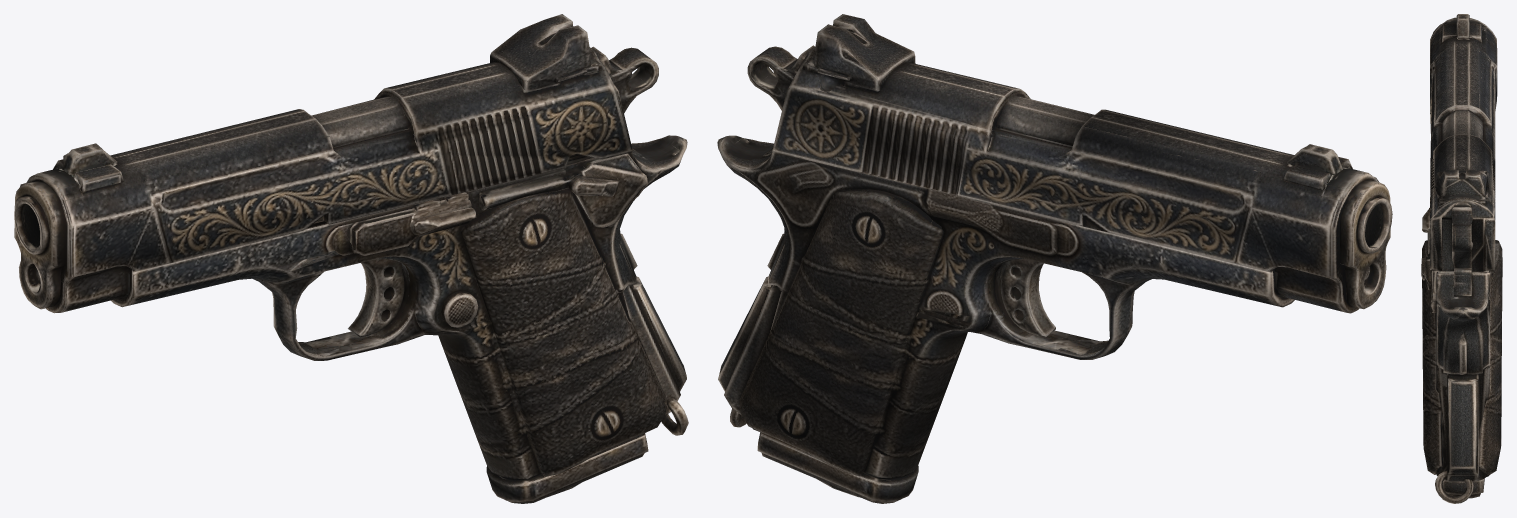
File: pistol_r.glb
The picture shows the model from 3 angles, left to right: view 1: azimuth 30°, elevation 25°; view 2: azimuth 150°, elevation 25°; view 3: azimuth 270°, elevation 25°; orthographic projection. The views are drawn at different scales.
Size of the model in its own units: 0.9575 by 0.6421 by 0.1489.
Materials: 1 (1 with a texture image).
